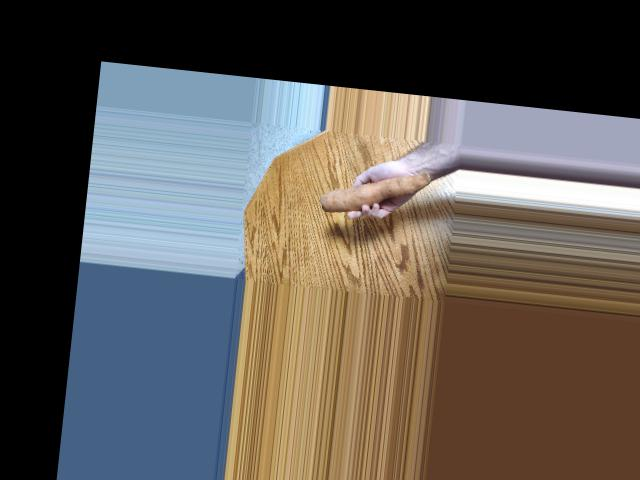sweet_potato: (318, 161, 429, 224)
